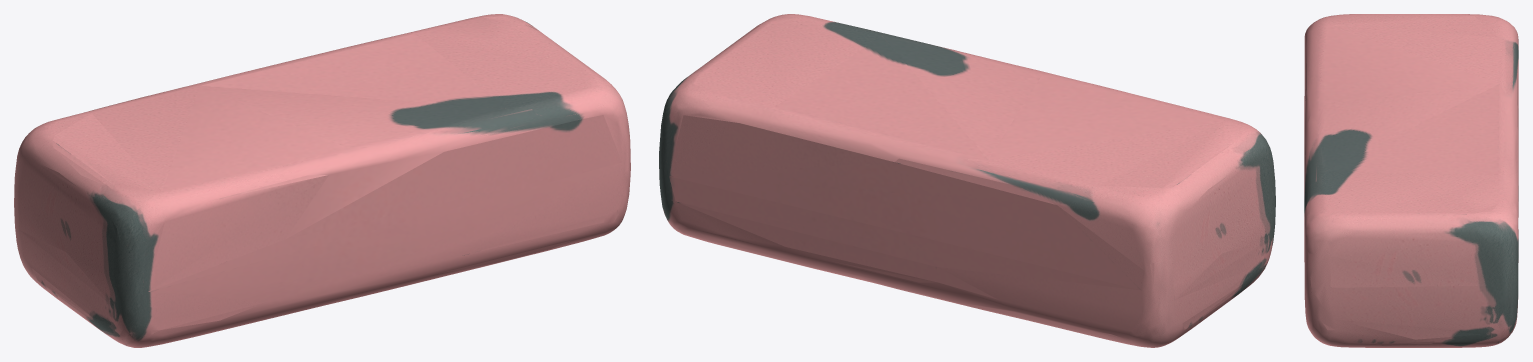
The model's file is Eraser.fbx.
3 views of the same model, side by side, from view 1: azimuth 30°, elevation 25°; view 2: azimuth 150°, elevation 25°; view 3: azimuth 270°, elevation 25° (orthographic). The views are drawn at different scales.
Parts seen in each view (by area): view 1: Mesh_0; view 2: Mesh_0; view 3: Mesh_0.
Boxes of the visible parts, x1,y1,x2,y2 form: Mesh_0: [14, 14, 630, 347]; Mesh_0: [659, 14, 1275, 347]; Mesh_0: [1304, 14, 1518, 347].
Bounding box in the file's own units: 190 × 54.16 × 79.34.
1 material, 1 textured.
